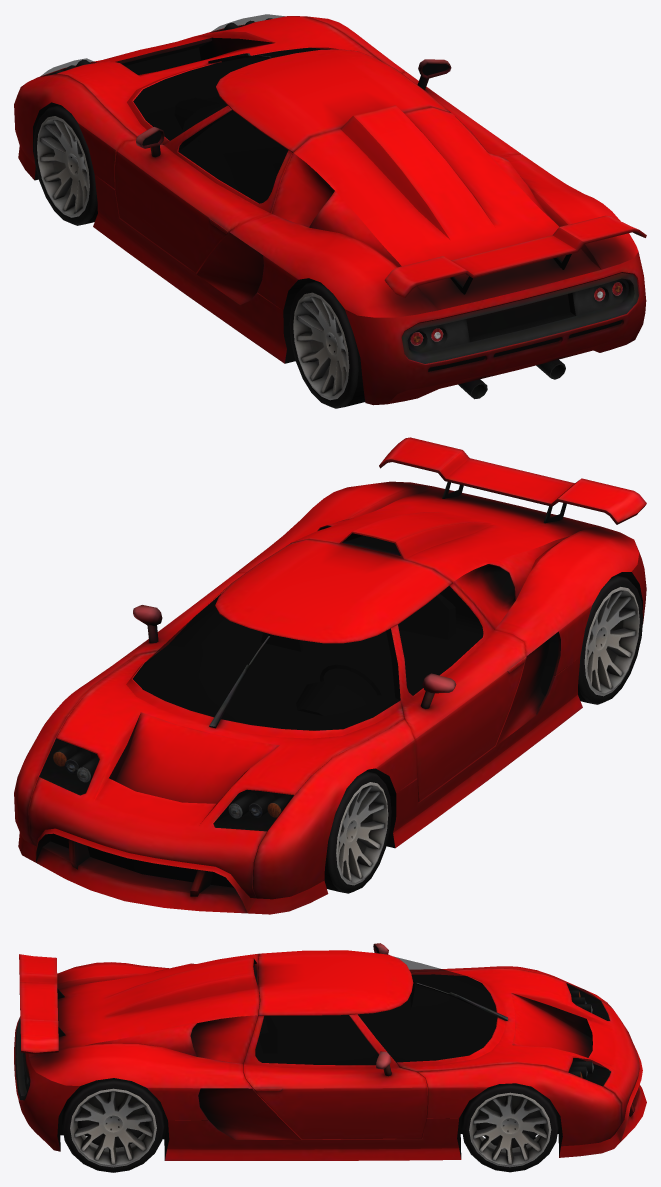
Rendered from c_sport.glb.
3 views of the same model, one above another, from view 1: azimuth 30°, elevation 25°; view 2: azimuth 150°, elevation 25°; view 3: azimuth 270°, elevation 25° (orthographic). The views are drawn at different scales.
Visible parts, largest first — view 1: body|Body_6, body|Wheel_5, body|glass; view 2: body|Body_6, body|glass, body|Wheel_5, body|Optics_6; view 3: body|Body_6, body|glass, body|Wheel_5.
Part boxes in pixels (<box>): body|Body_6: <box>14,16,646,405</box>; body|Wheel_5: <box>33,105,364,408</box>; body|glass: <box>40,14,337,203</box>; body|Body_6: <box>14,437,646,914</box>; body|glass: <box>39,586,483,830</box>; body|Wheel_5: <box>324,575,643,893</box>; body|Optics_6: <box>53,751,281,818</box>; body|Body_6: <box>14,943,646,1160</box>; body|glass: <box>255,956,610,1086</box>; body|Wheel_5: <box>62,1078,558,1172</box>.
Bounding box in the file's own units: 1.77 × 1.04 × 3.91.
Materials: 4 (3 with a texture image).
